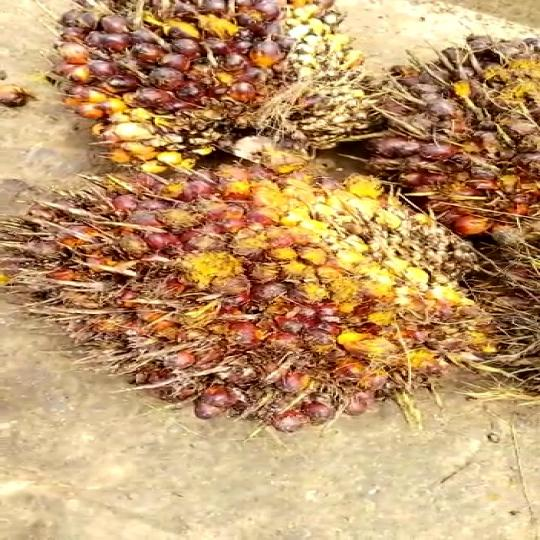masak: (0, 161, 513, 419), (25, 0, 371, 174)
